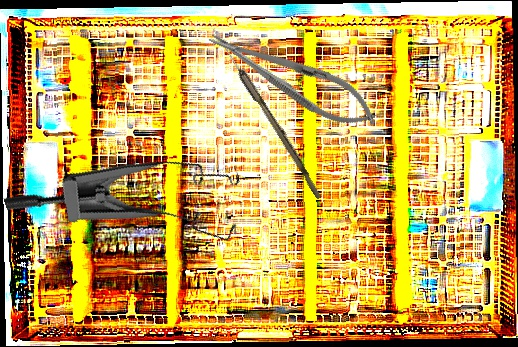Needle Holder: (200, 15, 387, 141)
Speculum: (2, 120, 258, 307)
Surgical Spoon: (208, 26, 326, 200)
